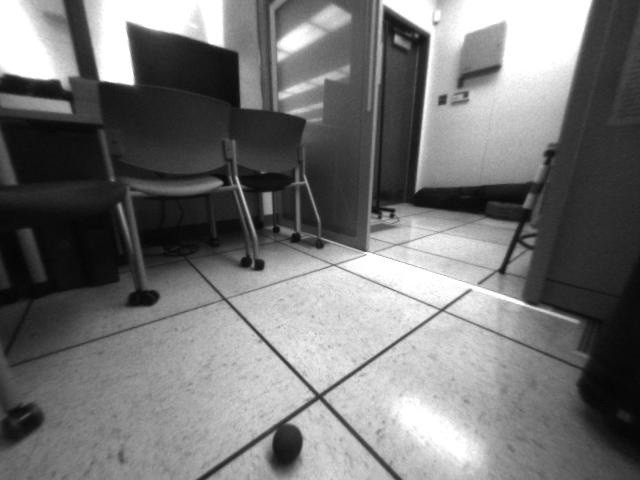dogtoy: (262, 413, 311, 471)
